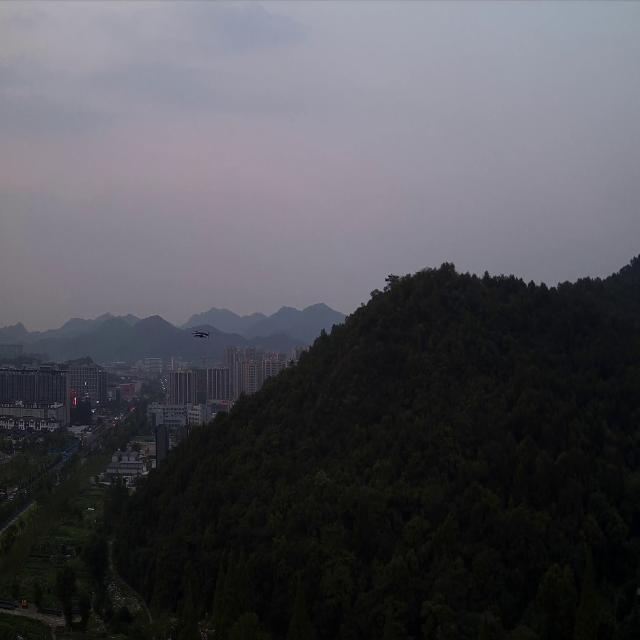UAV: (192, 329, 210, 341)
